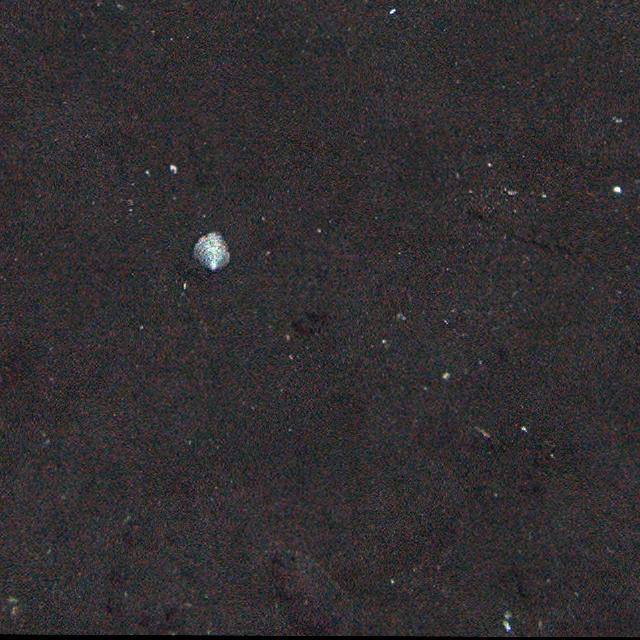flatfish: (266, 548, 366, 638)
